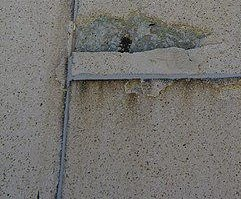Exposed reinforcement: (117, 36, 133, 54)
Spalling: (71, 9, 212, 54)
